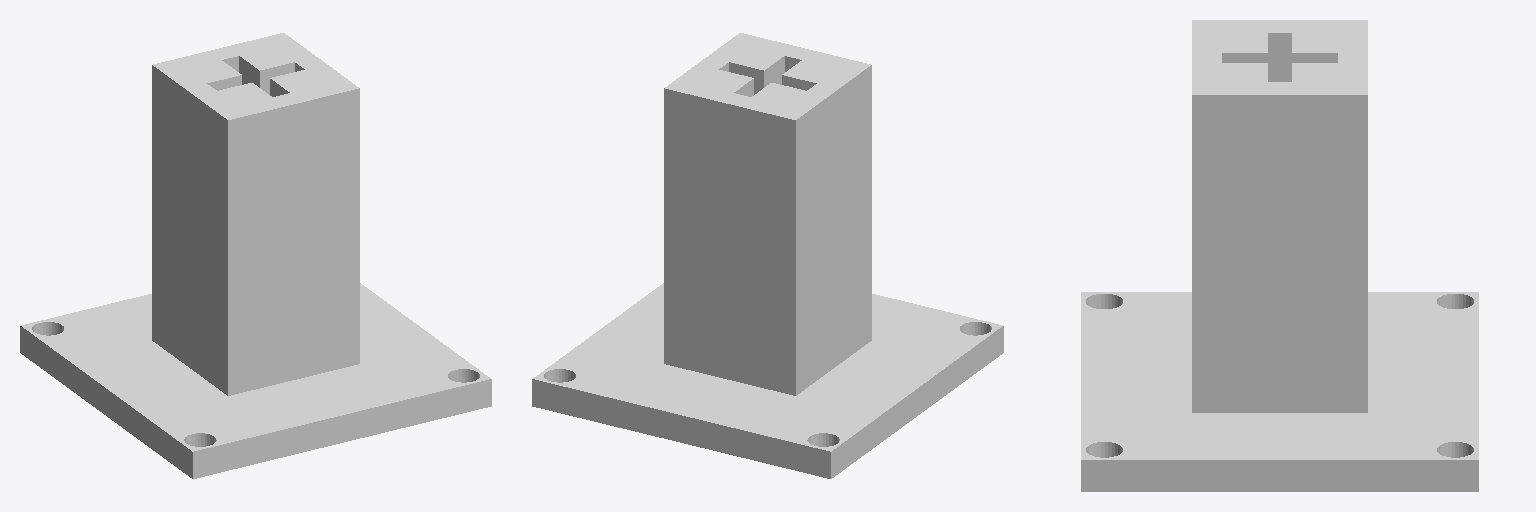
The robot description file, URDF, robot "base":
<?xml version="1.0" ?>

<robot name="base">
	<link name="base">
	    <contact>
	      <stiffness value="40000000.0"/>
	      <damping value="400000.0"/>
	      <lateral_friction value="0.07"/>
<!-- 	      <spinning_friction value="0"/>
	      <rolling_friction value="0"/> -->
	    </contact>
		<inertial>
			<origin xyz="0 0 0"/>
			<mass value="0.1"/>
			<inertia ixx="0.1" ixy="0" ixz="0" iyy="0.1" iyz="0" izz="0.1"/>
		</inertial>
		<visual>
			<origin rpy="0 0 0" xyz="0 0 0"/>
	      	<geometry>
	      		<!-- <cylinder length="0.001" radius="0.001"/> -->
	        	<mesh filename="base.obj"/>
	      	</geometry>
	  		<material name="panda_white">
	  			<color rgba="0.91 0.91 0.91 1."/>
				</material>
		</visual>
		<collision concave="yes">
	  		<origin rpy="0 0 0" xyz="0 0 0"/>
	  		<geometry>
	  			<!-- <cylinder length="0.001" radius="0.001"/> -->
	    		<mesh filename="base.obj"/>
	  		</geometry>
	  		<material name="panda_white"/>
		</collision>
	</link>

</robot>

--- Facts derived from the render (not from the file) ---
3 views of the same robot in one strip: view 1: azimuth 30°, elevation 25°; view 2: azimuth 150°, elevation 25°; view 3: azimuth 270°, elevation 25° (orthographic).
Robot: base — 1 links, 0 joints (none); root link base; default pose: all joints at 0.
Links seen in each view (by area): view 1: base; view 2: base; view 3: base.
Link boxes in pixels (left/top/right/bottom): base: left=20, top=33, right=491, bottom=478; base: left=532, top=33, right=1003, bottom=478; base: left=1081, top=20, right=1478, bottom=491.
Bounding box of the posed robot: 0.068 × 0.068 × 0.066 m (x, y, z).
1 mesh visuals loaded from 1 distinct referenced files (1 OBJ).